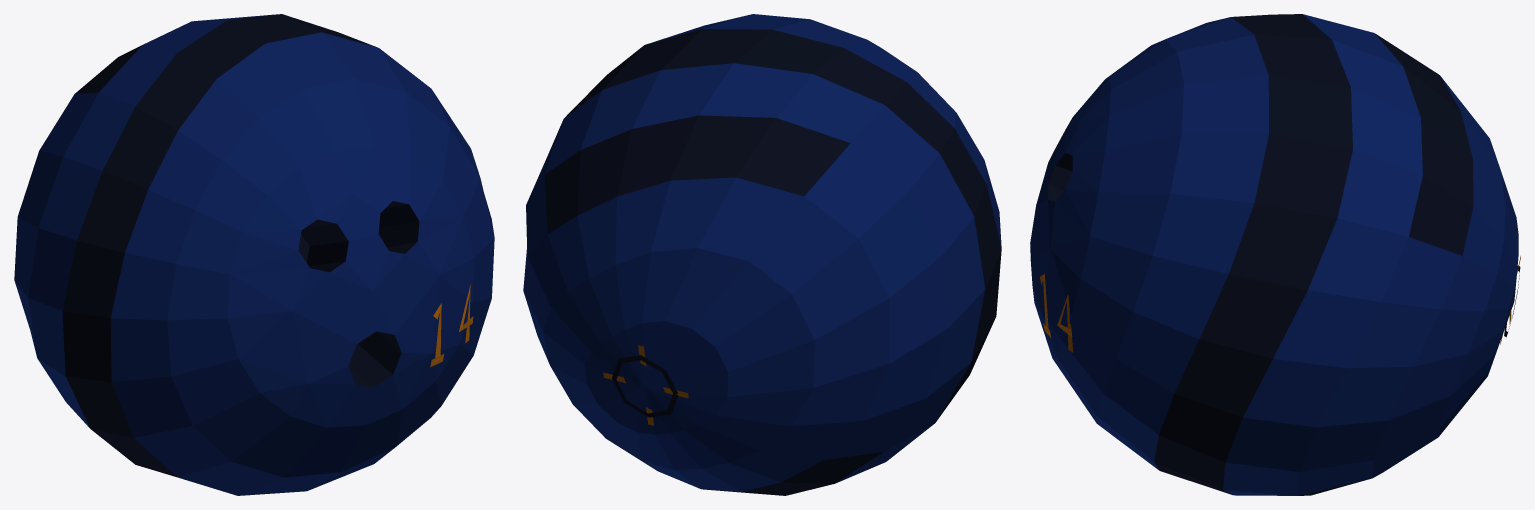
The model's file is cozy_bowling_ball_14lb.obj.
The picture shows the model from 3 angles, left to right: view 1: azimuth 30°, elevation 25°; view 2: azimuth 150°, elevation 25°; view 3: azimuth 270°, elevation 25°; orthographic projection.
Visible parts, largest first — view 1: Ball_14lb_Mesh; view 2: Ball_14lb_Mesh; view 3: Ball_14lb_Mesh.
Part boxes in pixels (box(x1,y1,x2,y2)): Ball_14lb_Mesh: box(14, 14, 494, 495); Ball_14lb_Mesh: box(523, 14, 1001, 495); Ball_14lb_Mesh: box(1030, 14, 1520, 495).
Bounding box in the file's own units: 0.2161 × 0.2161 × 0.2173.
